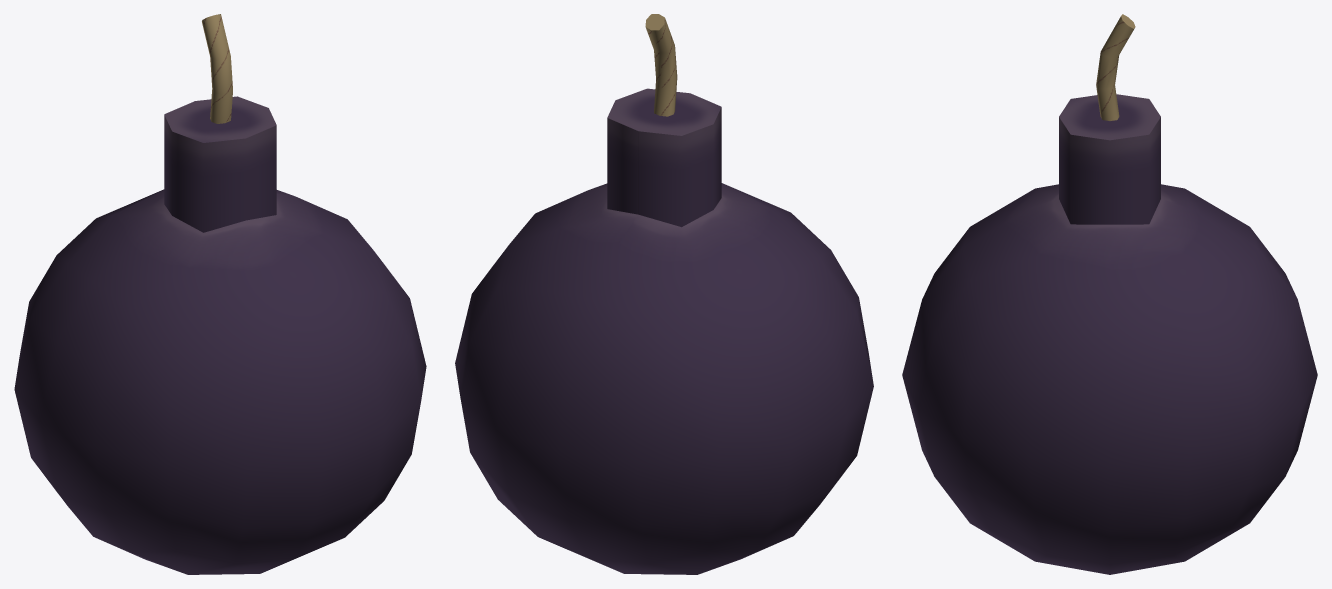
Rendered from bomb.fbx.
3 views of the same model, side by side, from view 1: azimuth 30°, elevation 25°; view 2: azimuth 150°, elevation 25°; view 3: azimuth 270°, elevation 25° (orthographic).
Parts seen in each view (by area): view 1: Cube; view 2: Cube; view 3: Cube.
Part boxes in pixels (x1,y1,x2,y2): Cube: (14, 14, 426, 574); Cube: (455, 14, 873, 574); Cube: (902, 14, 1317, 574).
Size of the model in its own units: 100 by 143 by 100.
